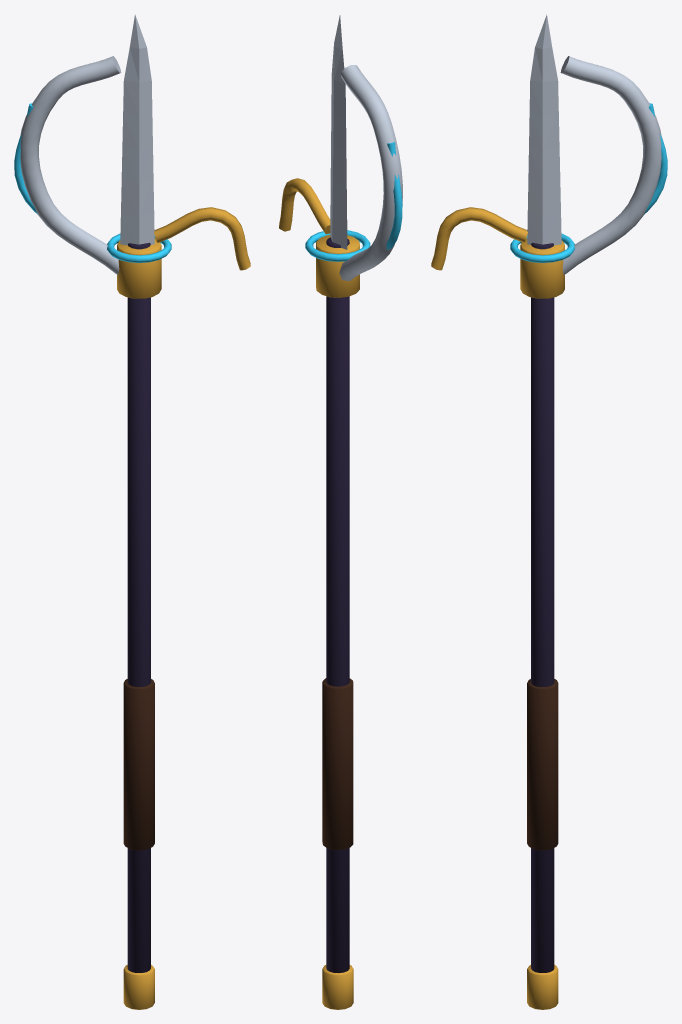
File: melee_polearm.obj
3 views of the same model, side by side, from view 1: azimuth 90°, elevation 25°; view 2: azimuth 210°, elevation 25°; view 3: azimuth 270°, elevation 25° (orthographic).
Visible parts, largest first — view 1: Shaft, SpearTip, CrescentBlade, Grip, Collar, BackHook, ButtCap, SocketGlow; view 2: Shaft, Grip, CrescentBlade, SpearTip, Collar, BackHook, ButtCap, SocketGlow, CrescentGlow; view 3: Shaft, SpearTip, CrescentBlade, Grip, Collar, BackHook, ButtCap, SocketGlow.
Part boxes in pixels (x1,y1,x2,y2): Shaft: (127,242,150,972); SpearTip: (120,14,154,245); CrescentBlade: (20,56,121,274); Grip: (123,679,154,850); Collar: (117,238,161,298); BackHook: (154,207,250,270); ButtCap: (123,965,154,1009); SocketGlow: (107,233,171,262); Shaft: (326,237,349,973); Grip: (322,678,353,850); CrescentBlade: (339,65,402,281); SpearTip: (330,15,347,249); Collar: (316,235,359,297); BackHook: (279,178,330,234); ButtCap: (322,965,353,1009); SocketGlow: (305,230,370,261); CrescentGlow: (386,141,402,249); Shaft: (531,242,554,972); SpearTip: (527,14,561,245); CrescentBlade: (560,56,661,274); Grip: (527,679,558,850); Collar: (520,238,564,298); BackHook: (431,207,527,270); ButtCap: (527,965,558,1009); SocketGlow: (510,233,574,262).
Size of the model in its own units: 0.118 by 1.96 by 0.4234.
